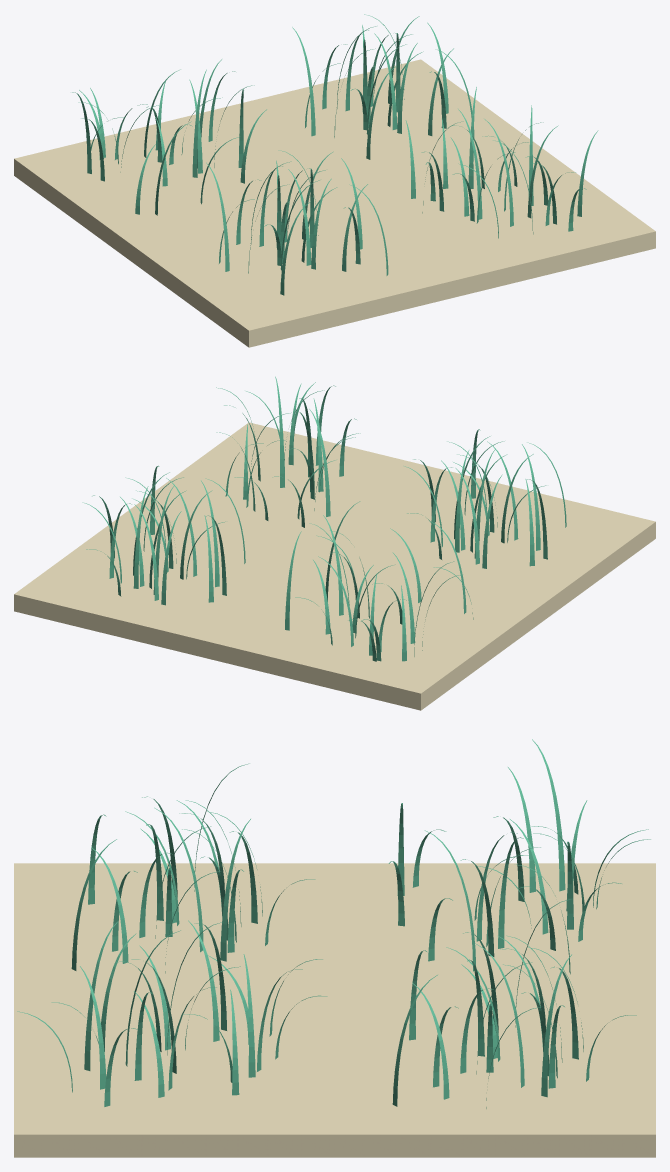
File: underwater-reef-worlds-turtle-grass-tile-f4896569__7038.glb
The picture shows the model from 3 angles, top to bottom: view 1: azimuth 30°, elevation 25°; view 2: azimuth 150°, elevation 25°; view 3: azimuth 270°, elevation 25°; orthographic projection. The views are drawn at different scales.
Parts seen in each view (by area): view 1: turtle-grass-tile; view 2: turtle-grass-tile; view 3: turtle-grass-tile.
Part boxes in pixels (x1=…): turtle-grass-tile: x1=14, y1=14, x2=655, y2=347; turtle-grass-tile: x1=14, y1=376, x2=655, y2=710; turtle-grass-tile: x1=14, y1=739, x2=655, y2=1157.
Bounding box in the file's own units: 4 × 1.06 × 4.
